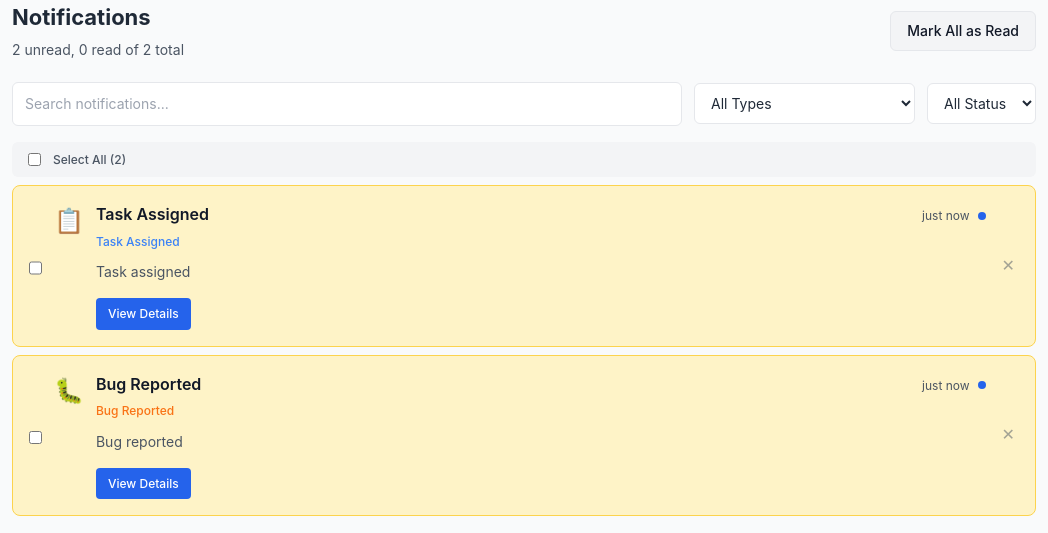
Test case: NotificationsView › filters notifications by type
This screenshot has width=1048, height=533.
Select "Test Case Failed" in the 1st dropdown at (804, 104), box [694, 83, 915, 124]
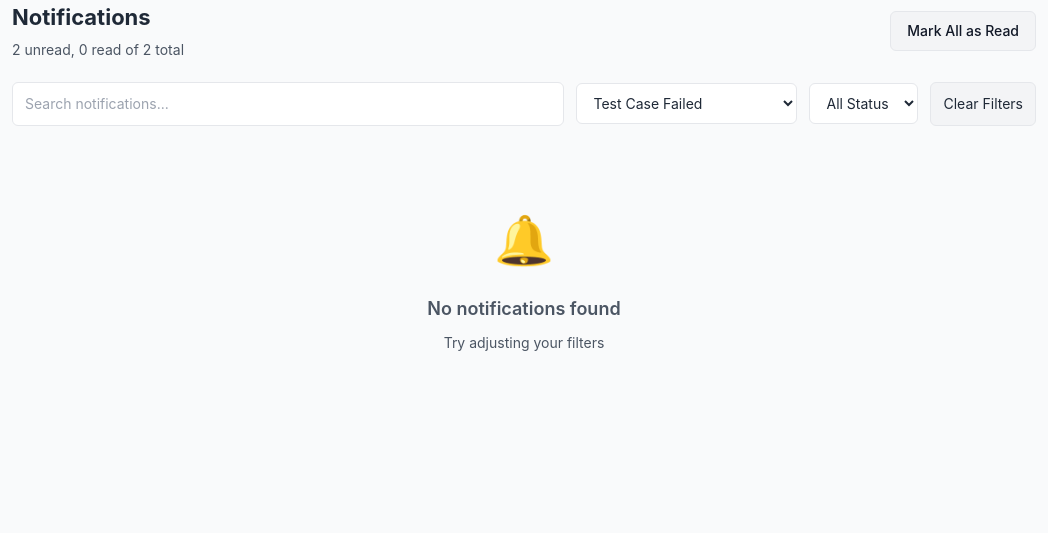
expect the heading "No notifications found" is shown: met, box [427, 298, 621, 319]
